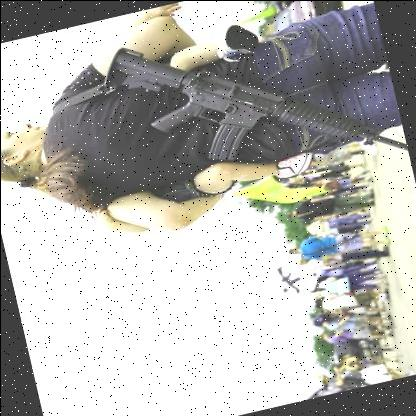rifle: (91, 0, 408, 224)
